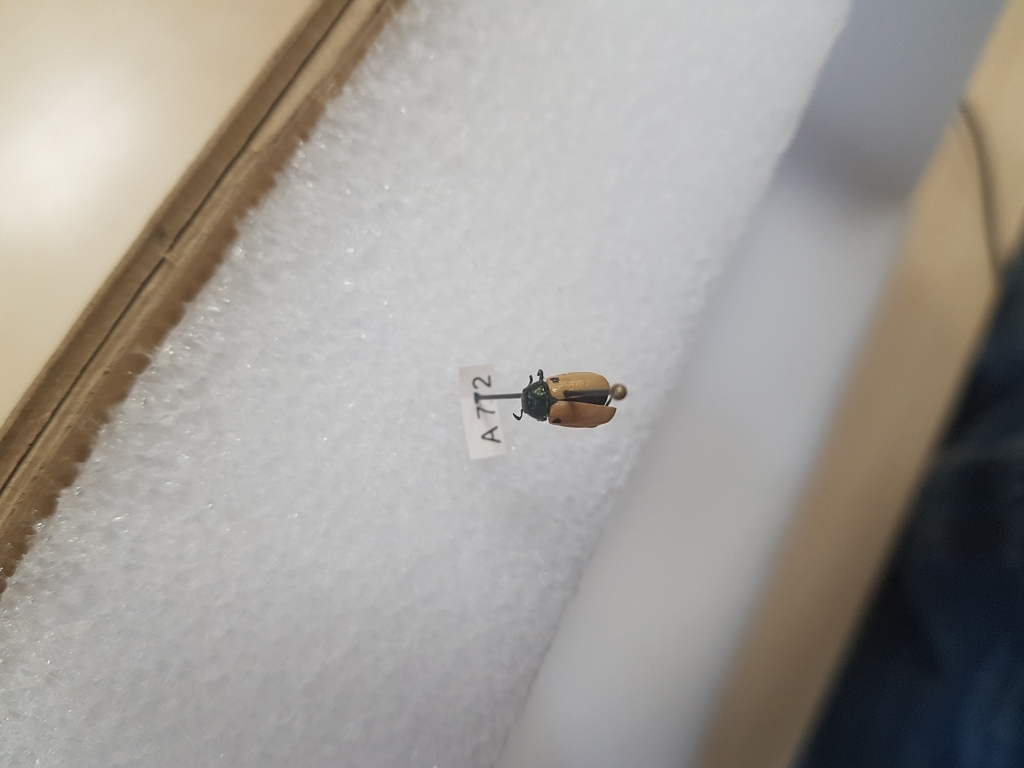Labidostomis_propinqua: (514, 362, 622, 437)
